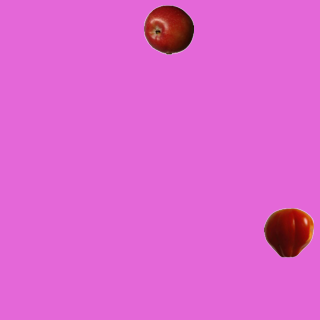Apple Braeburn: (143, 4, 193, 54)
Tomato 1: (263, 207, 313, 257)
